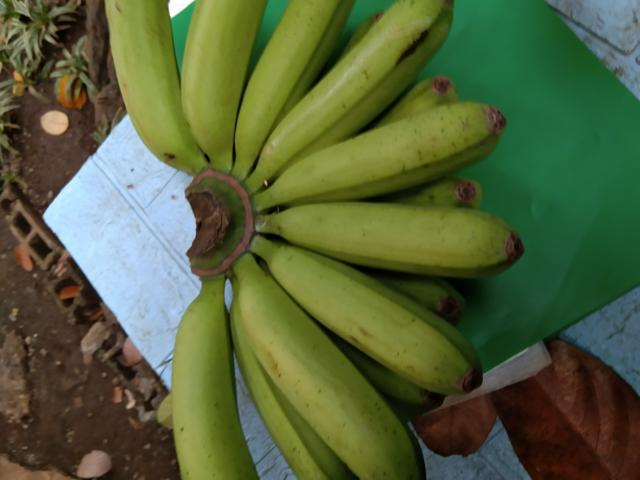freshunripe: (227, 258, 426, 479), (259, 236, 496, 399), (280, 88, 520, 202), (268, 188, 532, 285), (225, 0, 377, 167), (156, 282, 261, 479), (96, 0, 209, 178), (173, 0, 284, 170)
unripe: (251, 0, 452, 189)
